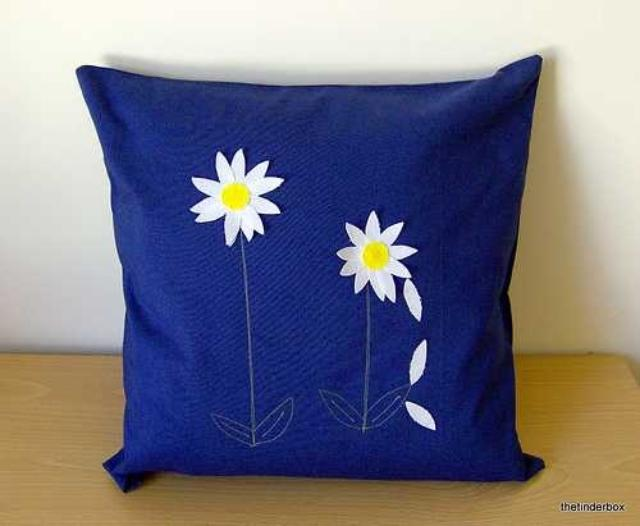pillow: (74, 54, 546, 492)
